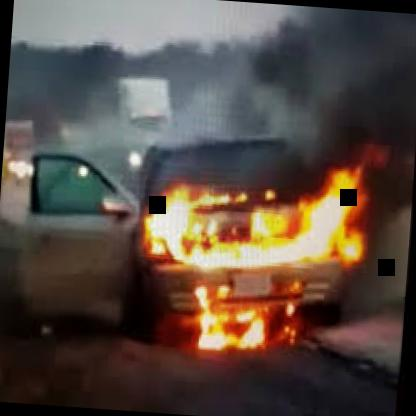fire: (108, 93, 391, 364)
